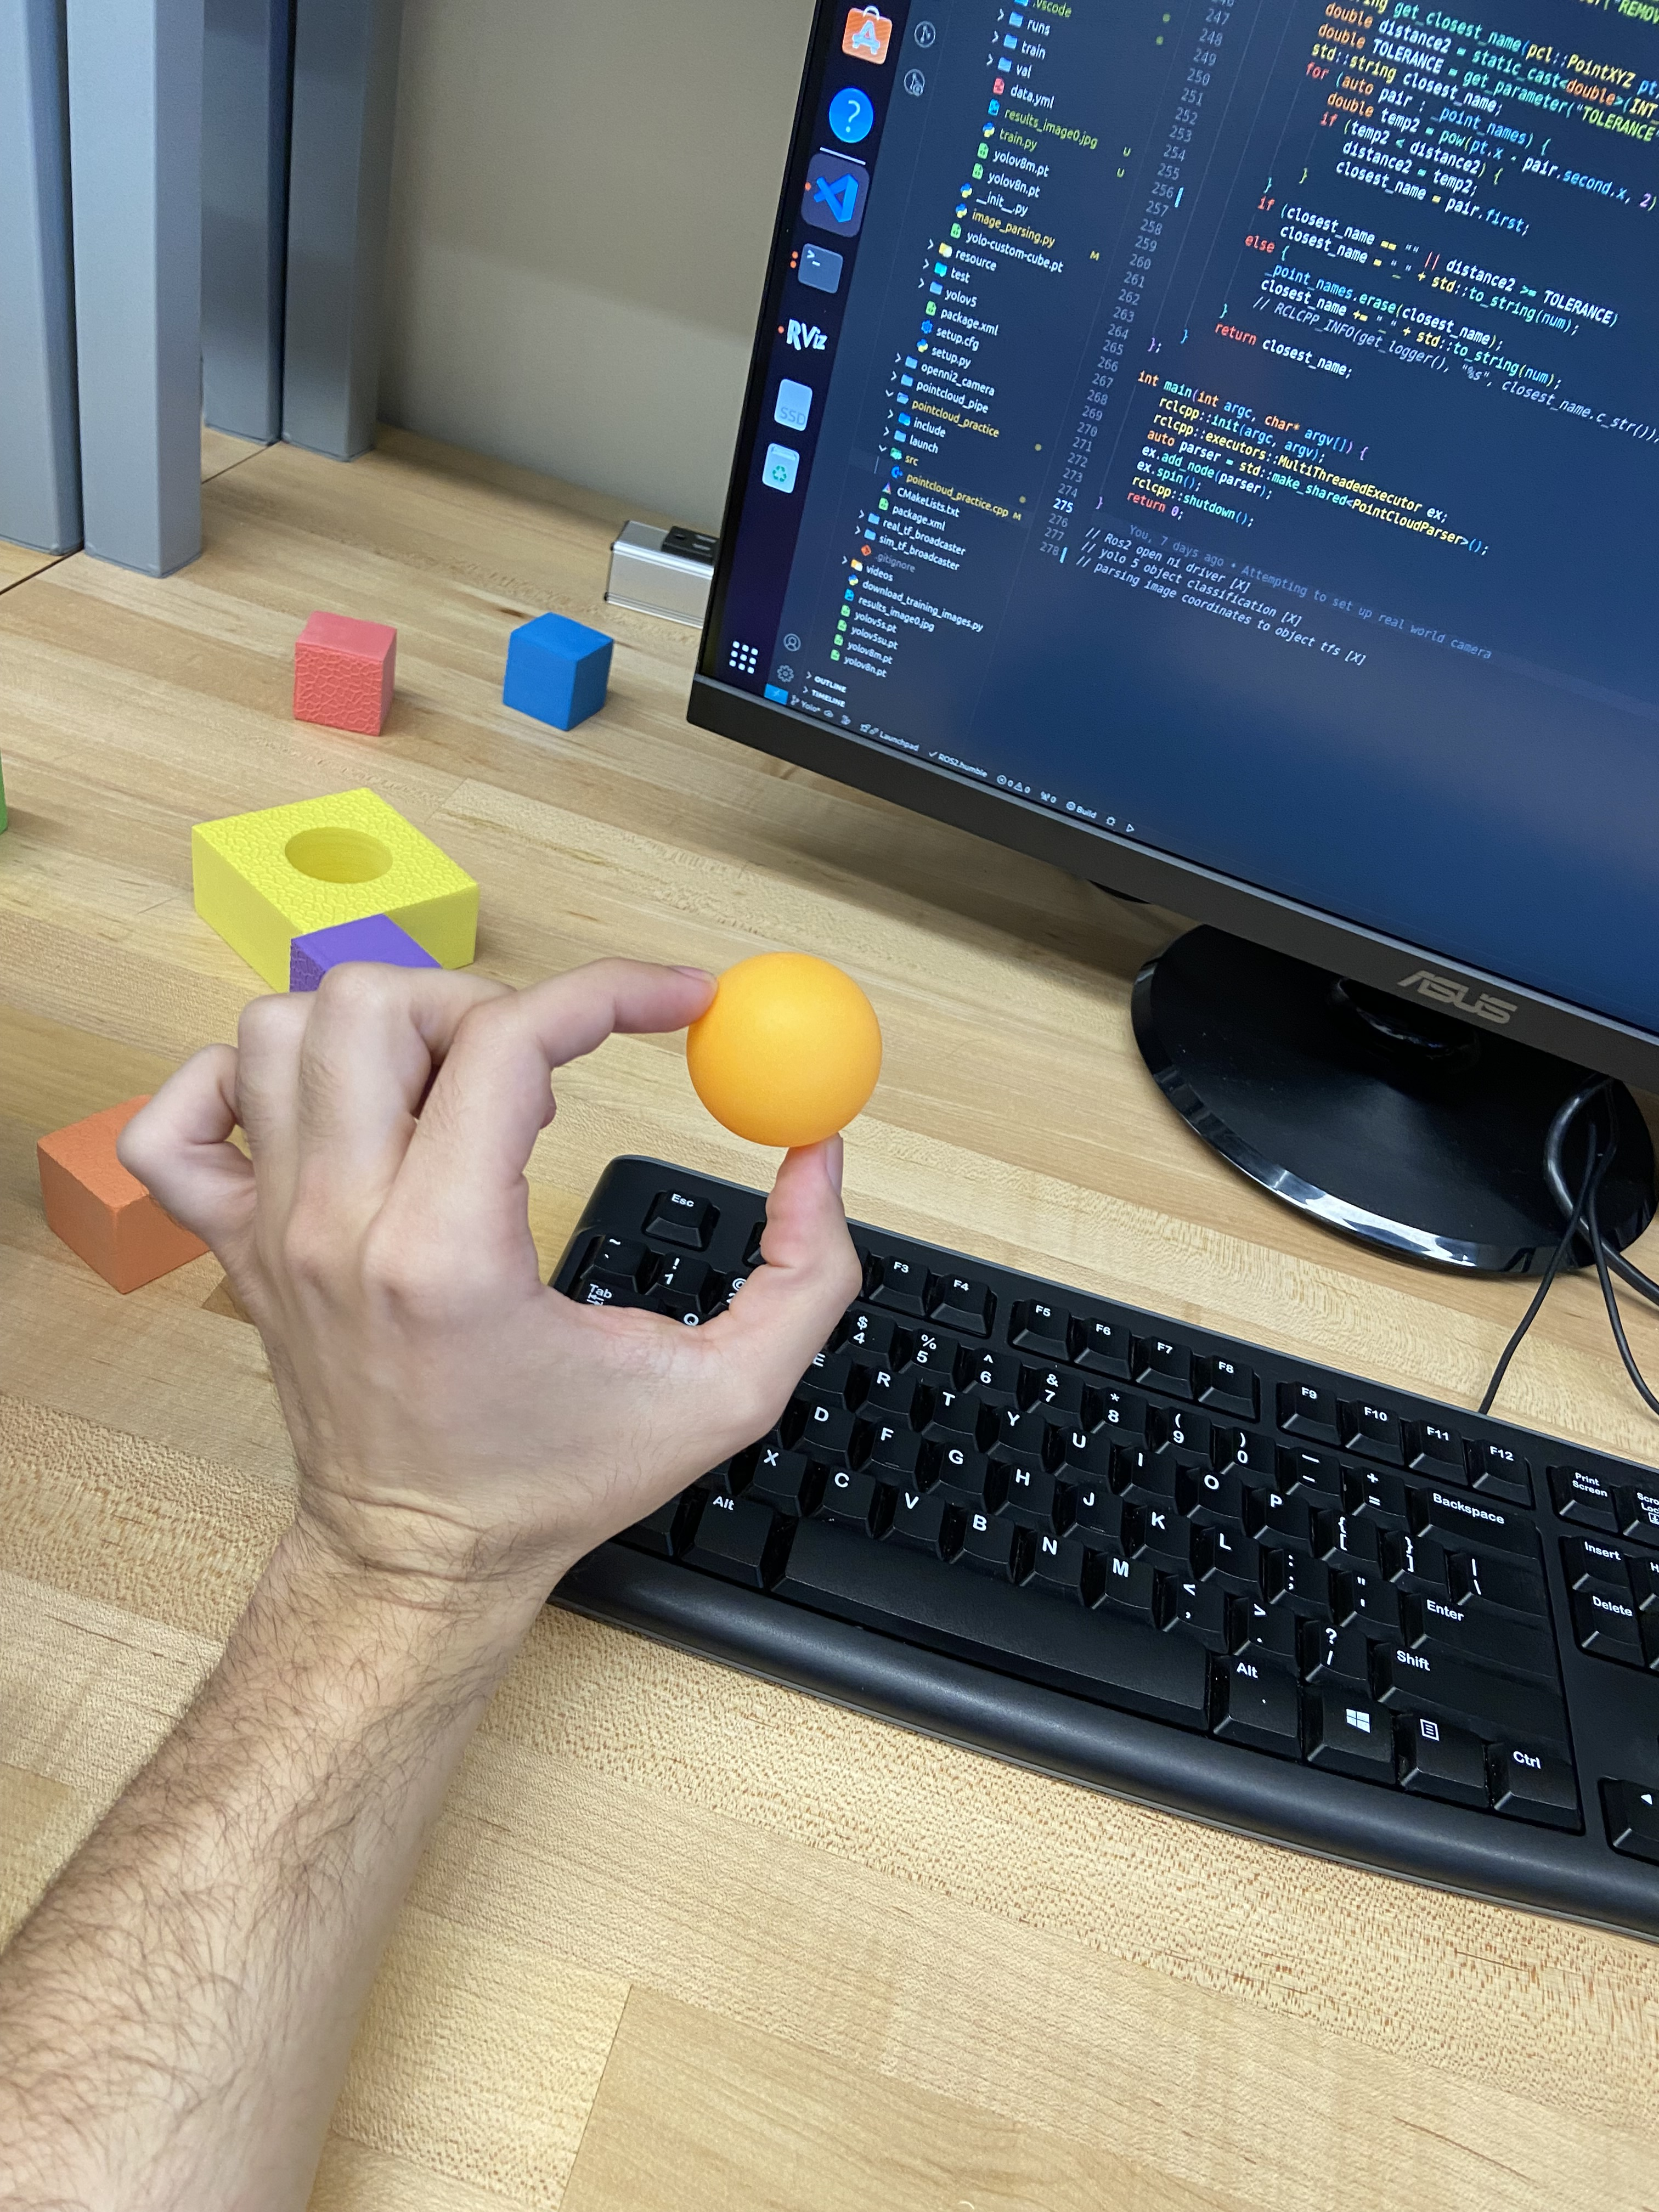Cube: (33, 1089, 225, 1298), (289, 610, 404, 728), (504, 613, 610, 735), (284, 918, 429, 968)
ball: (690, 939, 885, 1160)
